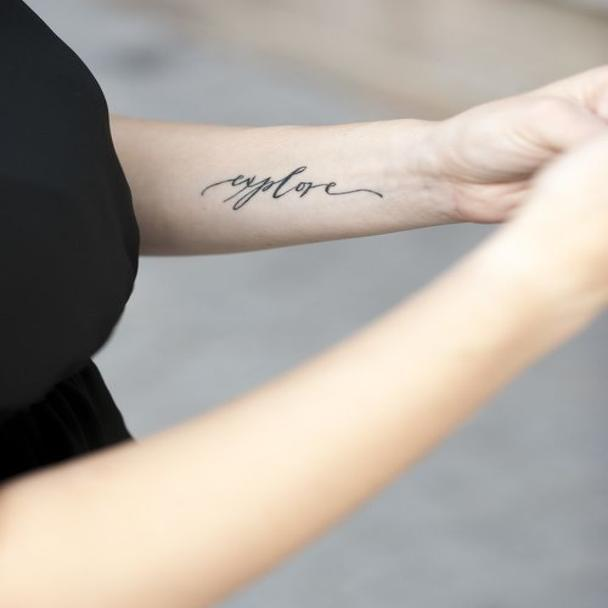tattoos: (200, 164, 384, 212)
